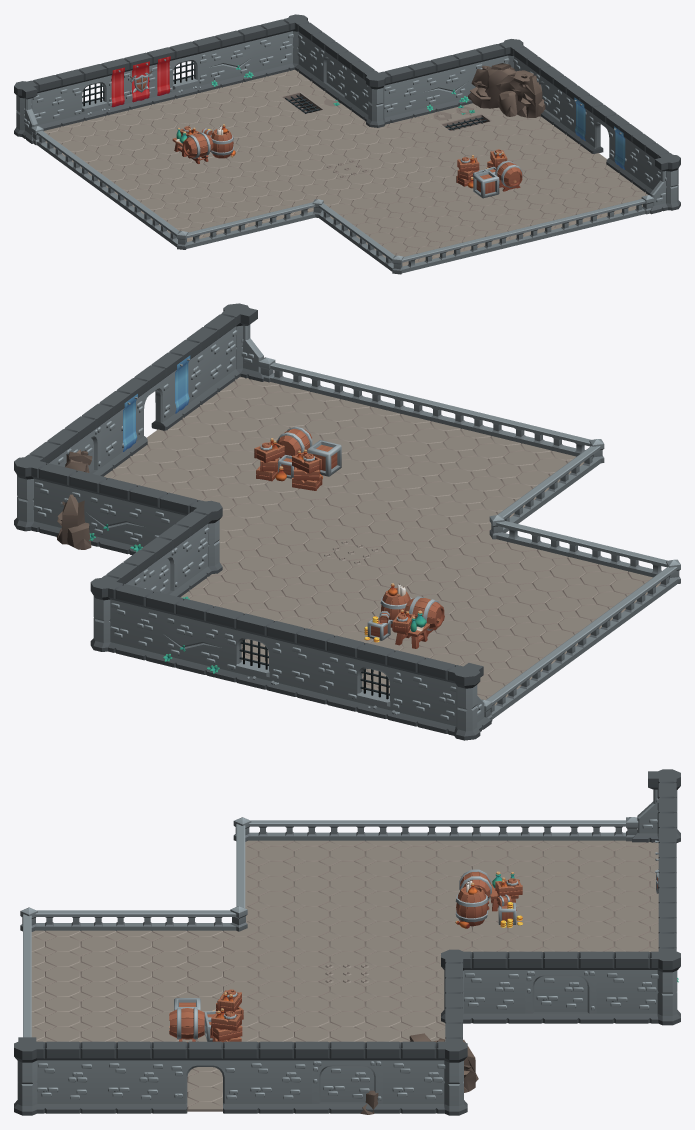
The model's file is next.glb.
3 views of the same model, one above another, from view 1: azimuth 30°, elevation 25°; view 2: azimuth 150°, elevation 25°; view 3: azimuth 270°, elevation 25° (orthographic). The views are drawn at different scales.
Parts seen in each view (by area): view 1: rubble_large, wall_cracked, wall_cracked.001, wall_archedwindow_gated.001, wall.004, wall, wall_archedwindow_gated.002, wall.002, wall_arched, wall.003, wall.007, wall_arched.001 (+97 smaller); view 2: wall.003, wall_cracked, wall_cracked.001, wall_archedwindow_gated.002, wall_archedwindow_gated.001, wall, wall.002, wall.005, wall.006, wall.008, wall_doorway, wall.010 (+83 smaller); view 3: wall_arched, wall.010, wall.011, wall_arched.001, wall.007, wall.006, wall.008, wall.009, wall_doorway, floor_tile_large.021, floor_tile_large.024, floor_tile_large.029 (+69 smaller).
Part boxes in pixels (x1=…): rubble_large: x1=468, y1=63, x2=545, y2=117; wall_cracked: x1=203, y1=27, x2=255, y2=90; wall_cracked.001: x1=419, y1=52, x2=470, y2=114; wall_archedwindow_gated.001: x1=67, y1=61, x2=118, y2=123; wall.004: x1=374, y1=63, x2=425, y2=124; wall: x1=249, y1=17, x2=299, y2=79; wall_archedwindow_gated.002: x1=158, y1=38, x2=209, y2=101; wall.002: x1=23, y1=72, x2=72, y2=130; wall_arched: x1=318, y1=36, x2=355, y2=105; wall.003: x1=112, y1=50, x2=164, y2=112; wall.007: x1=293, y1=19, x2=328, y2=85; wall_arched.001: x1=533, y1=61, x2=570, y2=129; wall.003: x1=281, y1=624, x2=349, y2=708; wall_cracked: x1=160, y1=594, x2=228, y2=678; wall_cracked.001: x1=83, y1=474, x2=152, y2=554; wall_archedwindow_gated.002: x1=220, y1=609, x2=289, y2=693; wall_archedwindow_gated.001: x1=341, y1=639, x2=409, y2=722; wall: x1=107, y1=581, x2=168, y2=663; wall.002: x1=402, y1=653, x2=468, y2=735; wall.005: x1=27, y1=461, x2=91, y2=536; wall.006: x1=167, y1=505, x2=215, y2=595; wall.008: x1=195, y1=307, x2=243, y2=398; wall_doorway: x1=125, y1=358, x2=174, y2=449; wall.010: x1=160, y1=333, x2=209, y2=423; wall_arched: x1=525, y1=951, x2=596, y2=1023; wall.010: x1=98, y1=1041, x2=169, y2=1113; wall.011: x1=240, y1=1041, x2=311, y2=1113; wall_arched.001: x1=312, y1=1041, x2=382, y2=1113; wall.007: x1=596, y1=951, x2=667, y2=1023; wall.006: x1=454, y1=951, x2=525, y2=1023; wall.008: x1=27, y1=1041, x2=98, y2=1113; wall.009: x1=383, y1=1041, x2=453, y2=1113; wall_doorway: x1=169, y1=1041, x2=240, y2=1113; floor_tile_large.021: x1=525, y1=898, x2=596, y2=929; floor_tile_large.024: x1=525, y1=868, x2=596, y2=898; floor_tile_large.029: x1=383, y1=898, x2=454, y2=929.
Bounding box in the file's own units: 37.5 × 4.98 × 37.5.
Materials: 27 (27 with a texture image).
